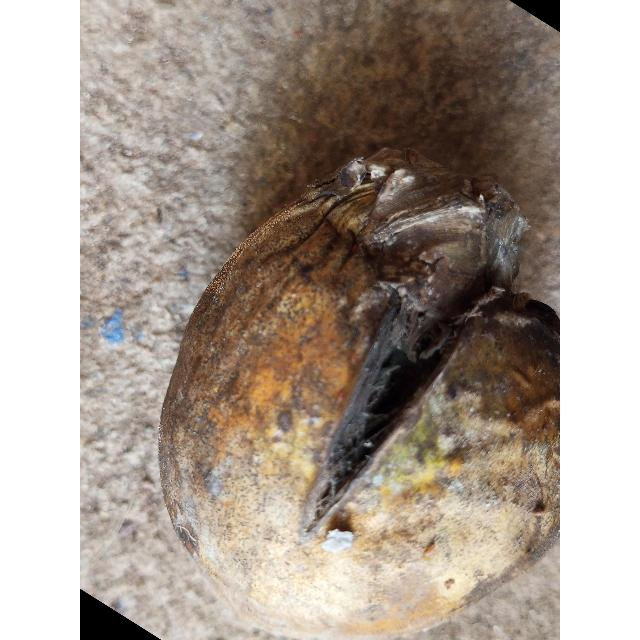damaged: (159, 148, 560, 637)
